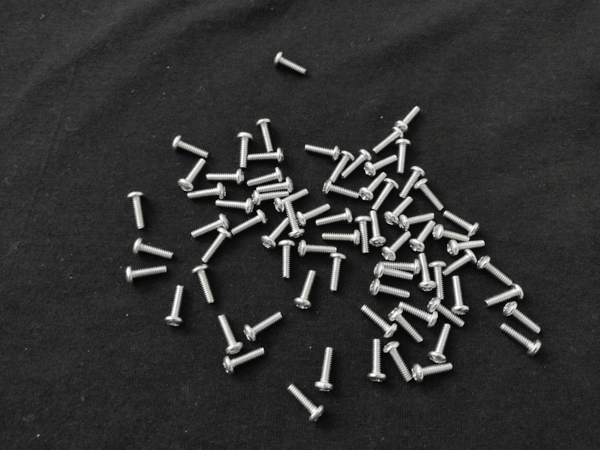shortscrew: (288, 384, 326, 423), (500, 324, 543, 358), (361, 305, 398, 341), (389, 308, 424, 344), (503, 302, 542, 334), (383, 342, 413, 383), (243, 313, 283, 343), (223, 348, 266, 375), (201, 228, 232, 265), (428, 298, 466, 328), (477, 256, 514, 286), (217, 315, 244, 356), (442, 249, 479, 278), (190, 264, 216, 305), (414, 177, 445, 211), (443, 210, 481, 237), (484, 283, 525, 307), (442, 250, 477, 278), (399, 303, 438, 328), (232, 210, 268, 237), (132, 239, 174, 262), (381, 230, 412, 261), (190, 215, 230, 239), (178, 158, 207, 191), (371, 177, 399, 211), (329, 149, 356, 184), (125, 265, 167, 287), (262, 217, 290, 250), (294, 271, 317, 311), (409, 221, 436, 255), (384, 197, 414, 227), (273, 188, 309, 213), (372, 127, 404, 155), (430, 324, 452, 364), (342, 149, 372, 178), (370, 280, 411, 301), (315, 348, 334, 393), (368, 339, 387, 384), (172, 135, 209, 158), (400, 166, 426, 198), (373, 263, 414, 283), (296, 203, 331, 226), (417, 253, 437, 293), (165, 286, 184, 328), (360, 173, 388, 201), (274, 52, 308, 75), (449, 277, 469, 316), (413, 364, 453, 383), (433, 224, 471, 243), (285, 203, 305, 239), (128, 192, 146, 231), (206, 168, 245, 186), (298, 240, 337, 258), (246, 168, 285, 186), (378, 259, 421, 275), (256, 118, 275, 154), (369, 211, 387, 249), (316, 208, 354, 226), (322, 231, 362, 248), (330, 252, 347, 292), (395, 106, 421, 132), (279, 239, 295, 281), (323, 181, 360, 199), (398, 213, 435, 231), (430, 261, 447, 300), (256, 177, 295, 194), (186, 183, 226, 199), (215, 198, 255, 214), (304, 144, 341, 161), (356, 217, 373, 254), (237, 131, 253, 169), (247, 148, 285, 164), (446, 240, 486, 255), (252, 190, 290, 205)
